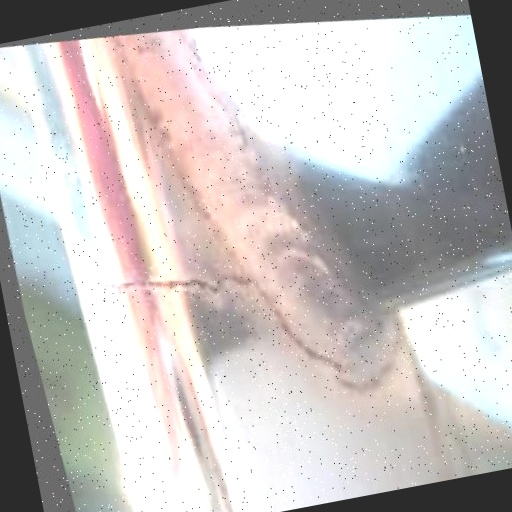crack: (74, 235, 261, 334)
